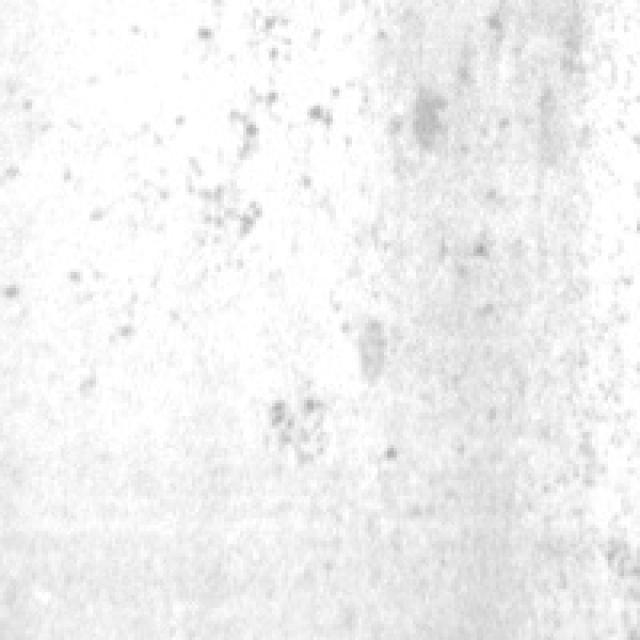pitted_surface: (0, 0, 528, 374)
